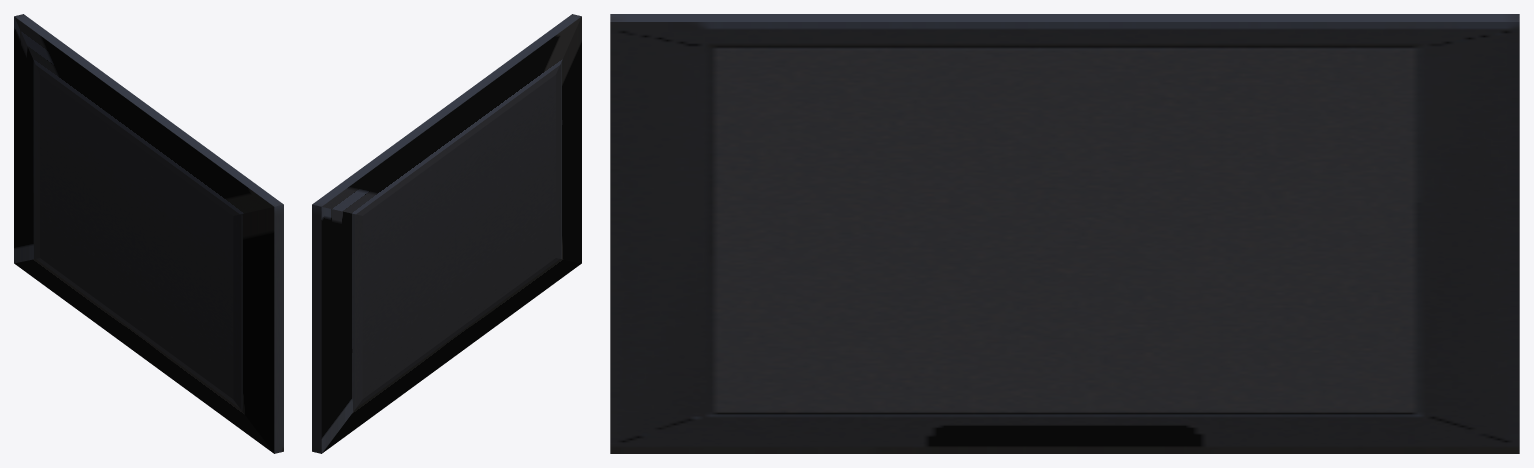
The picture shows the model from 3 angles, left to right: view 1: azimuth 30°, elevation 25°; view 2: azimuth 150°, elevation 25°; view 3: azimuth 270°, elevation 25°; orthographic projection. The views are drawn at different scales.
Visible parts, largest first — view 1: Cube.001; view 2: Cube.001; view 3: Cube.001.
Part boxes in pixels (box(x1,y1,x2,y2)): Cube.001: box(14, 14, 283, 453); Cube.001: box(312, 14, 581, 453); Cube.001: box(610, 14, 1519, 453).
Bounding box in the file's own units: 0.0462 × 1.22 × 0.6374.
1 material, 1 textured.
